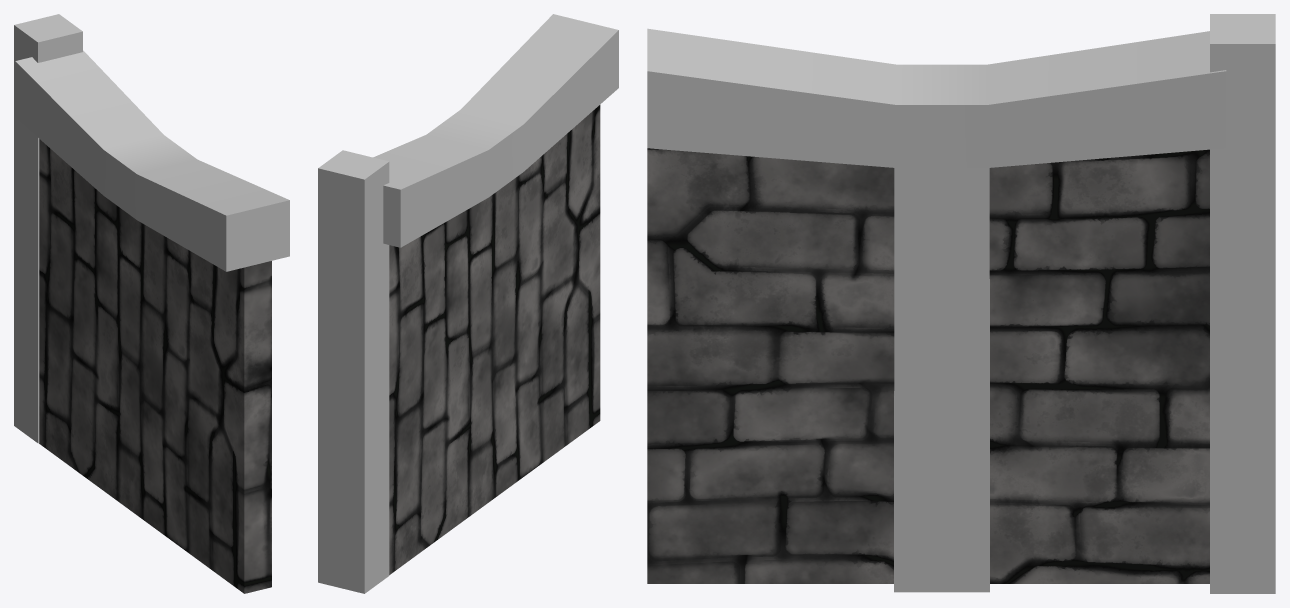
The model's file is Muur_2.fbx.
3 renders of one model, left to right at view 1: azimuth 30°, elevation 25°; view 2: azimuth 150°, elevation 25°; view 3: azimuth 270°, elevation 25°, orthographic. The views are drawn at different scales.
Parts seen in each view (by area): view 1: Muur_2, balk; view 2: Muur_2, balk; view 3: Muur_2, balk.
Boxes of the visible parts, <box> form: Muur_2: <box>15,50,289,593</box>; balk: <box>14,14,82,443</box>; Muur_2: <box>373,14,618,574</box>; balk: <box>318,150,389,593</box>; Muur_2: <box>647,28,1226,592</box>; balk: <box>1210,14,1275,593</box>.
Bounding box in the file's own units: 0.3476 × 2.1 × 2.17.
